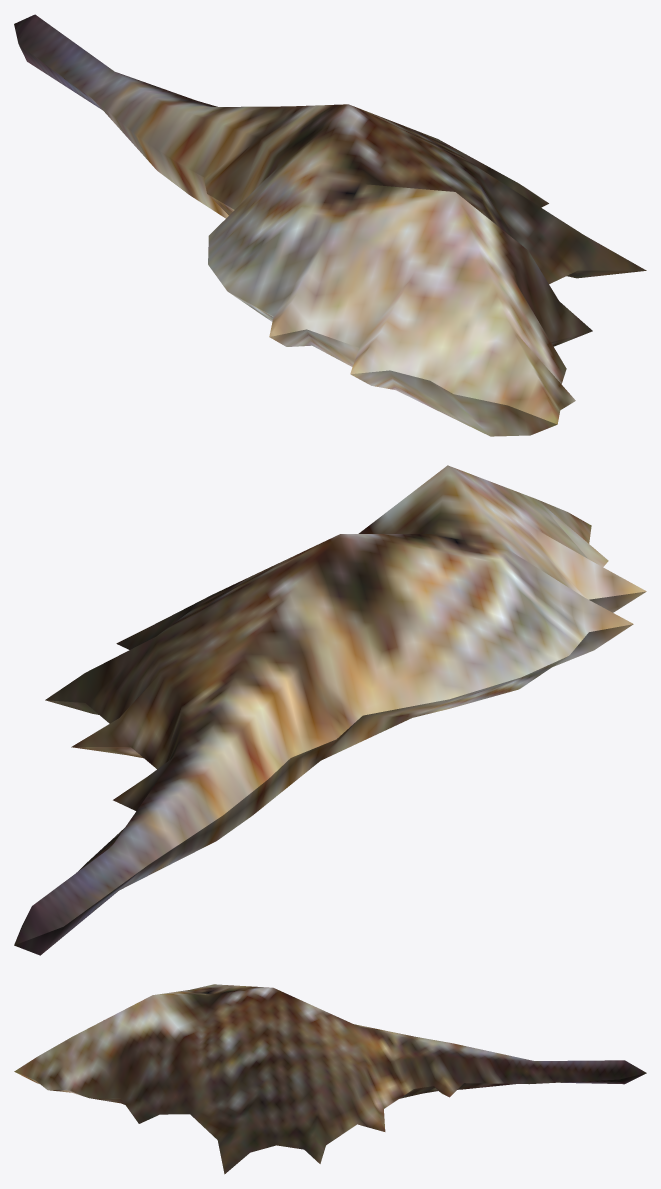
File: SeaShell-08_LOD0_newsmall.glb
The picture shows the model from 3 angles, top to bottom: view 1: azimuth 30°, elevation 25°; view 2: azimuth 150°, elevation 25°; view 3: azimuth 270°, elevation 25°; orthographic projection. The views are drawn at different scales.
Visible parts, largest first — view 1: SeaShell-08_high; view 2: SeaShell-08_high; view 3: SeaShell-08_high.
Boxes of the visible parts, bbox=[...] form: SeaShell-08_high: bbox=[14, 14, 646, 436]; SeaShell-08_high: bbox=[14, 465, 646, 955]; SeaShell-08_high: bbox=[14, 984, 646, 1174].
Size of the model in its own units: 0.0737 by 0.032 by 0.1602.
Materials: 1 (1 with a texture image).
